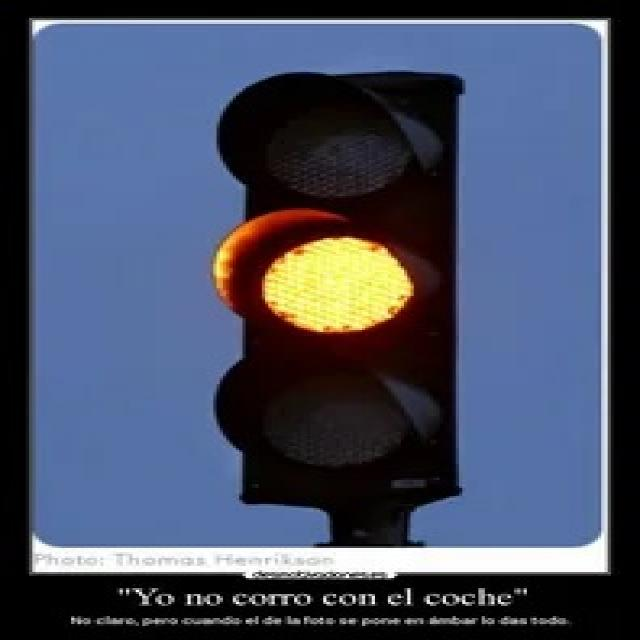sari: (209, 74, 456, 500)
